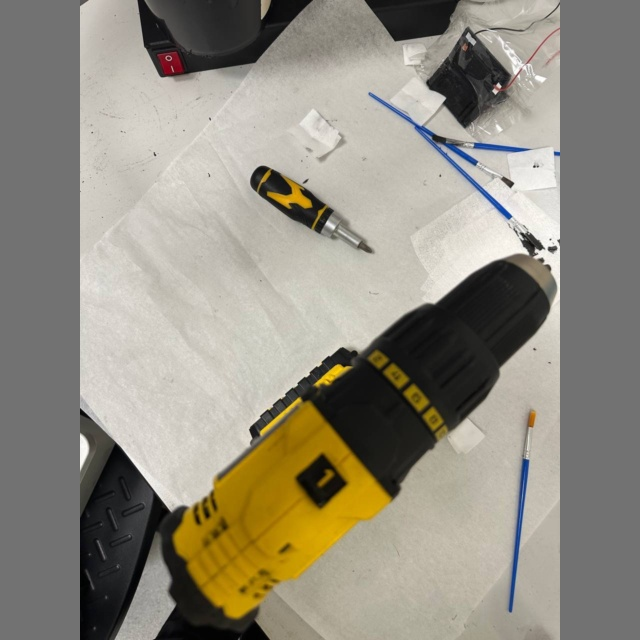drill: (174, 256, 558, 621)
screwdriver: (250, 166, 373, 252)
